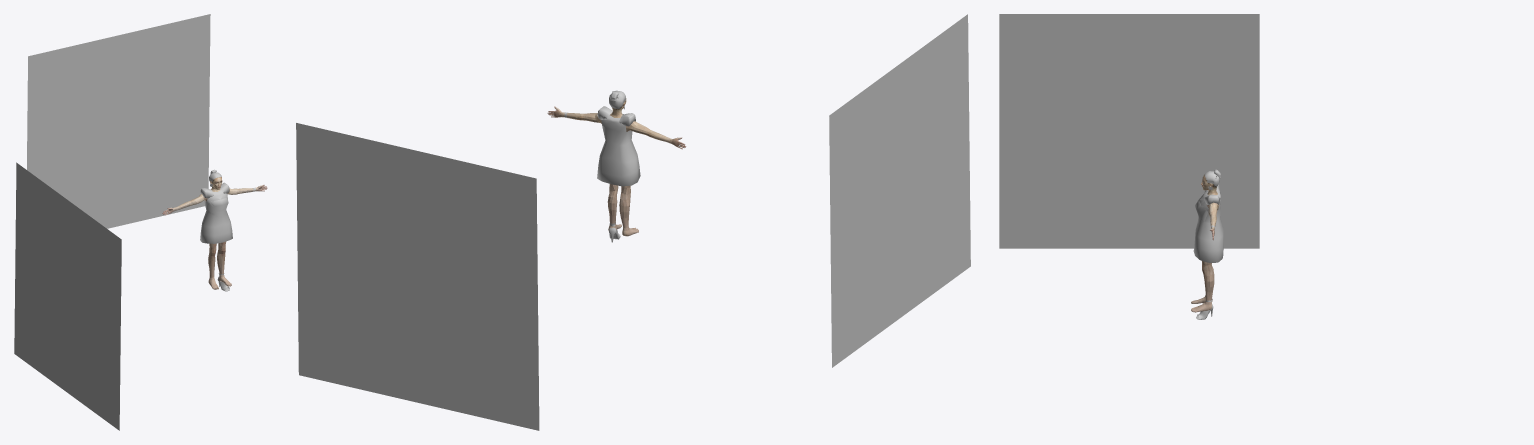
File: Tarafinal.fbx
3 renders of one model, left to right at view 1: azimuth 30°, elevation 25°; view 2: azimuth 150°, elevation 25°; view 3: azimuth 270°, elevation 25°, orthographic. The views are drawn at different scales.
Visible parts, largest first — view 1: pPlane1, pPlane2, polySurface16, polySurface27, polySurface40, polySurface35; view 2: pPlane1, pPlane2, polySurface16, polySurface27; view 3: pPlane2, polySurface16, polySurface27, polySurface35.
Part boxes in pixels (x1,y1,x2,y2): pPlane1: [27, 14, 210, 228]; pPlane2: [14, 162, 121, 430]; polySurface16: [200, 183, 232, 243]; polySurface27: [162, 177, 267, 289]; polySurface40: [164, 179, 266, 288]; polySurface35: [167, 169, 255, 291]; pPlane1: [296, 123, 539, 430]; pPlane2: [829, 14, 970, 367]; polySurface16: [597, 106, 640, 186]; polySurface27: [547, 97, 686, 236]; pPlane2: [999, 14, 1259, 248]; polySurface16: [1193, 184, 1223, 262]; polySurface27: [1191, 174, 1219, 312]; polySurface35: [1196, 169, 1220, 319].
Bounding box in the file's own units: 512 × 314 × 620.
